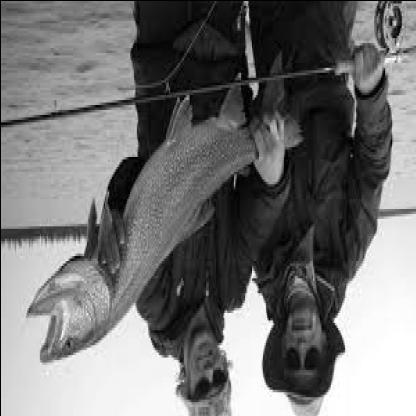fish: (24, 54, 306, 366)
